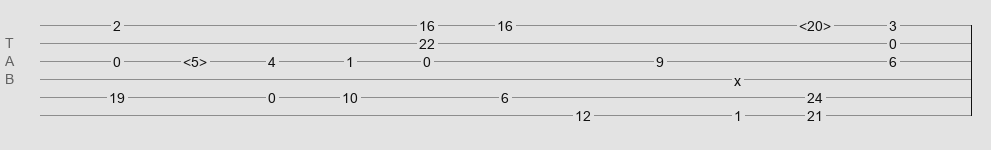0: (113, 54, 121, 64), (268, 90, 276, 100), (423, 54, 431, 64), (889, 36, 897, 46)
1: (346, 54, 354, 64), (734, 108, 742, 118)
10: (342, 90, 358, 100)
12: (575, 108, 591, 118)
16: (419, 18, 435, 28), (497, 18, 513, 28)
19: (109, 90, 125, 100)
2: (113, 18, 121, 28)
21: (807, 108, 823, 118)
22: (419, 36, 435, 46)
24: (807, 90, 823, 100)
3: (889, 18, 897, 28)
4: (268, 54, 276, 64)
6: (501, 90, 509, 100), (889, 54, 897, 64)
9: (656, 54, 664, 64)
harmonic: (799, 18, 831, 28), (183, 54, 207, 64)
x: (734, 73, 741, 81)
